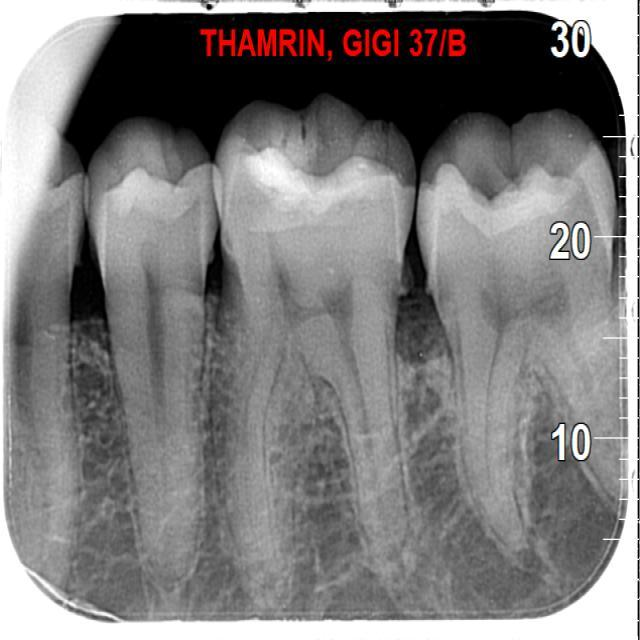individual-tooth-8tto: (412, 112, 637, 559), (218, 101, 413, 602), (72, 123, 227, 581)
